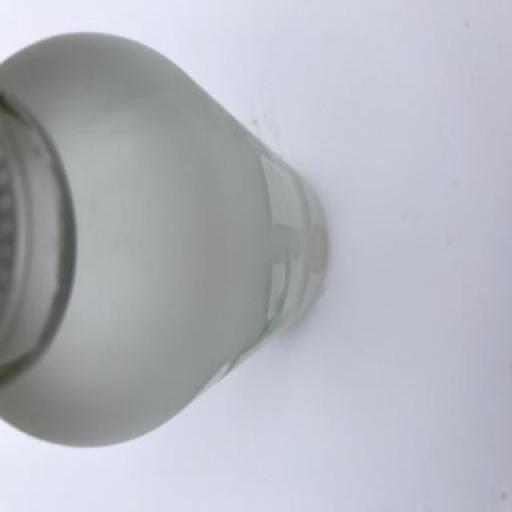glass: (0, 22, 355, 461)
